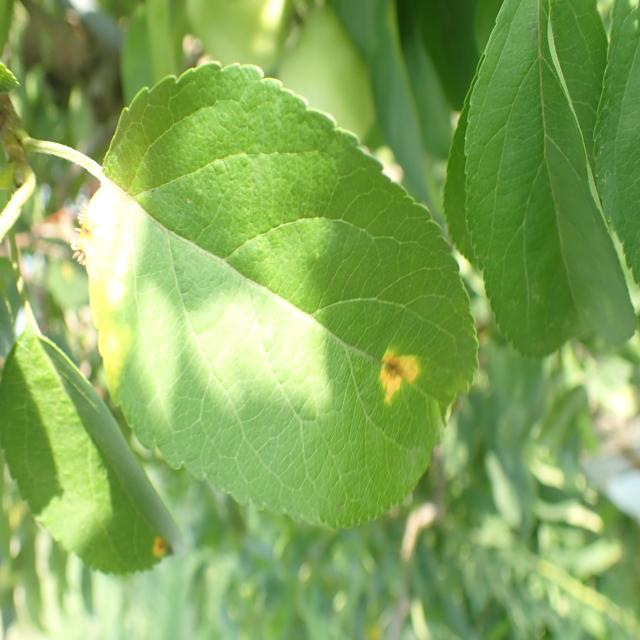rust: (83, 59, 480, 532)
